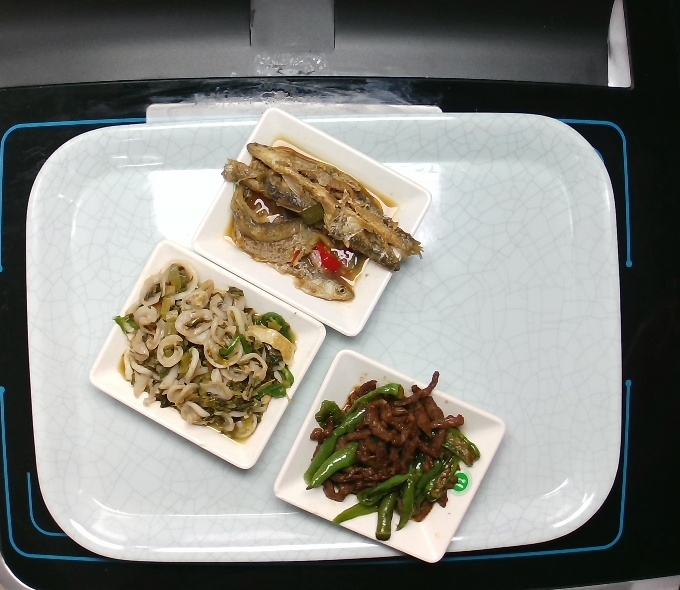wcq-QingJiaoNiuRou: (299, 366, 483, 544)
wcq-XiaoXiYu: (211, 138, 426, 304)
wcq-XueCaiYouYu: (105, 256, 301, 441)
